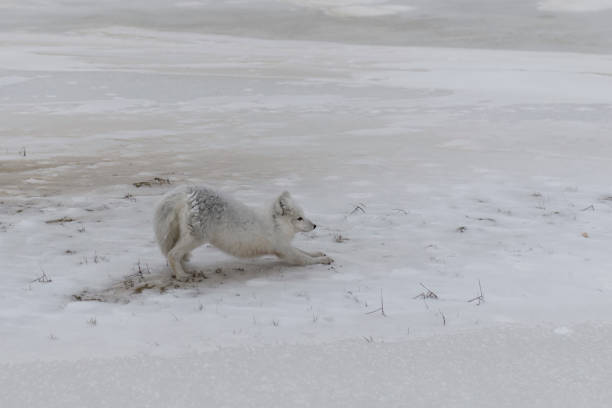arcticfox: (282, 199, 319, 243)
